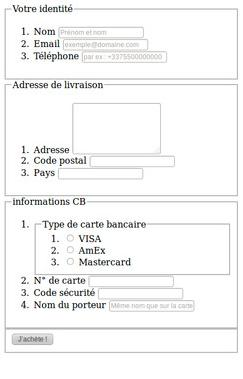button: (12, 333, 52, 345)
field: (69, 102, 162, 155), (56, 167, 144, 181), (95, 287, 183, 301), (86, 155, 177, 168), (105, 299, 196, 312), (60, 38, 150, 51), (85, 275, 175, 288), (56, 26, 145, 39), (79, 51, 167, 63)
field_with_label: (33, 100, 164, 156), (34, 298, 197, 313), (33, 286, 185, 302), (31, 154, 179, 170), (33, 273, 176, 289), (35, 50, 170, 64), (34, 24, 146, 40), (33, 166, 145, 182), (34, 37, 151, 52)
radio: (65, 256, 74, 267), (66, 244, 74, 256), (66, 233, 74, 244)
radio_with_label: (63, 255, 131, 268), (63, 244, 107, 257), (64, 232, 102, 245)
